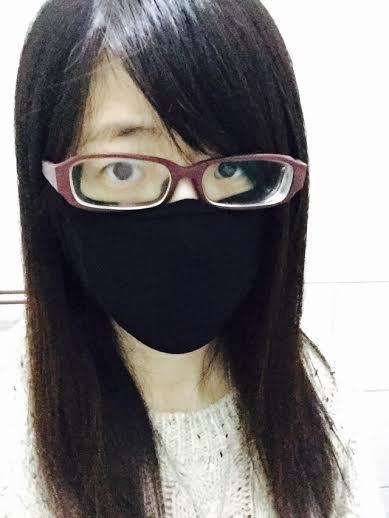OK: (44, 112, 281, 349)
